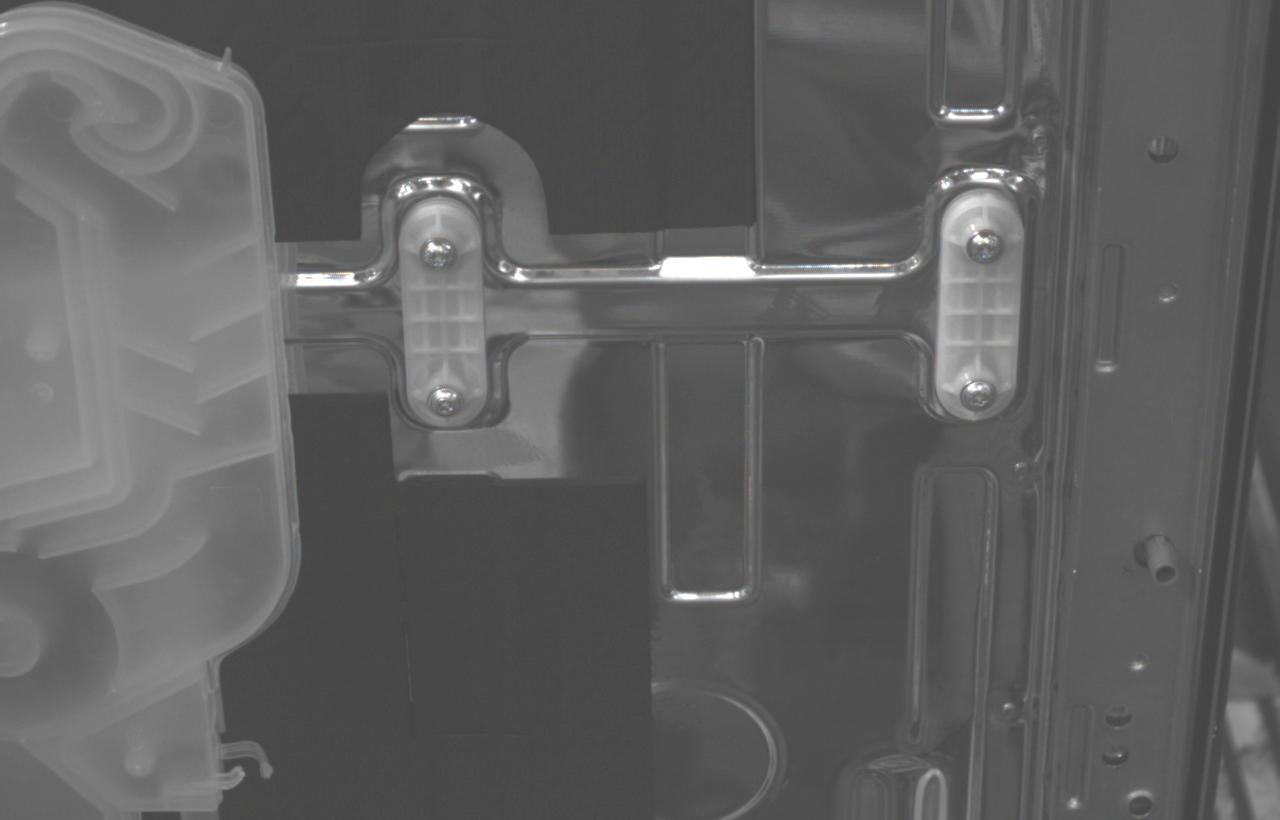vida-ok: (966, 230, 1006, 265), (419, 237, 457, 272), (960, 379, 998, 413), (426, 386, 464, 419)
